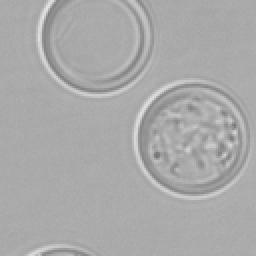picoshell: (132, 78, 250, 198), (36, 0, 152, 96), (26, 244, 94, 254)
